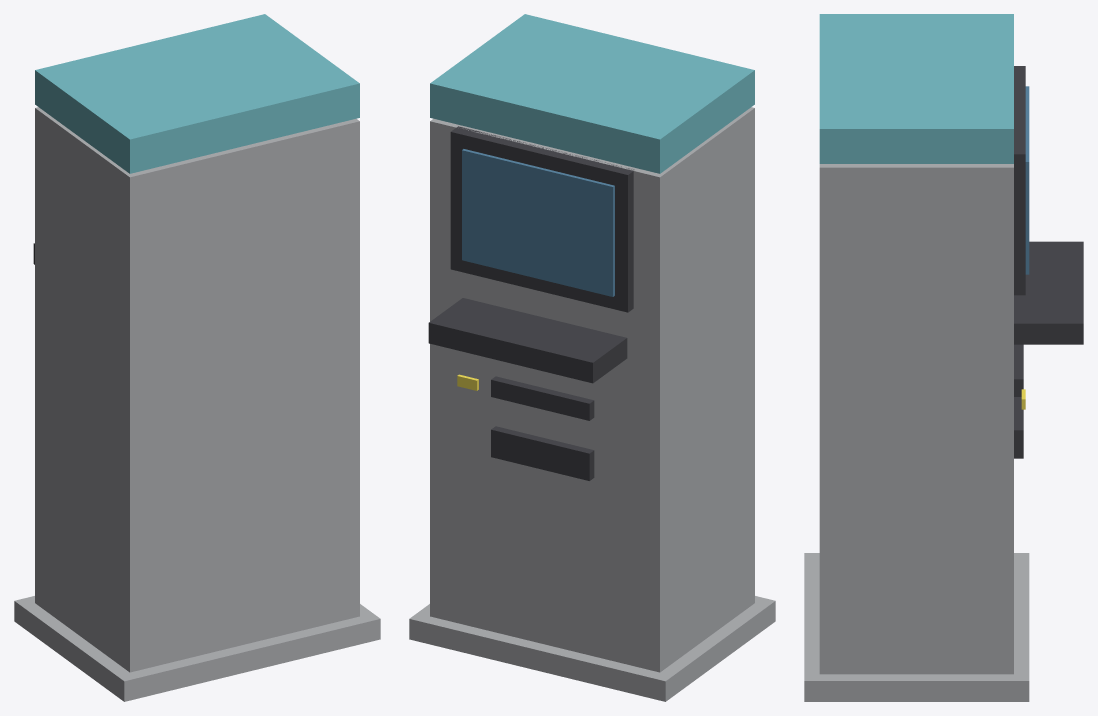
File: terminal.glb
3 renders of one model, left to right at view 1: azimuth 30°, elevation 25°; view 2: azimuth 150°, elevation 25°; view 3: azimuth 270°, elevation 25°, orthographic. The views are drawn at different scales.
Visible parts, largest first — view 1: terminal; view 2: terminal; view 3: terminal.
Part boxes in pixels (box(x1,y1,x2,y2)): terminal: box(14, 14, 380, 701); terminal: box(409, 14, 775, 701); terminal: box(804, 14, 1083, 701).
Bounding box in the file's own units: 0.78 × 1.61 × 0.72.
